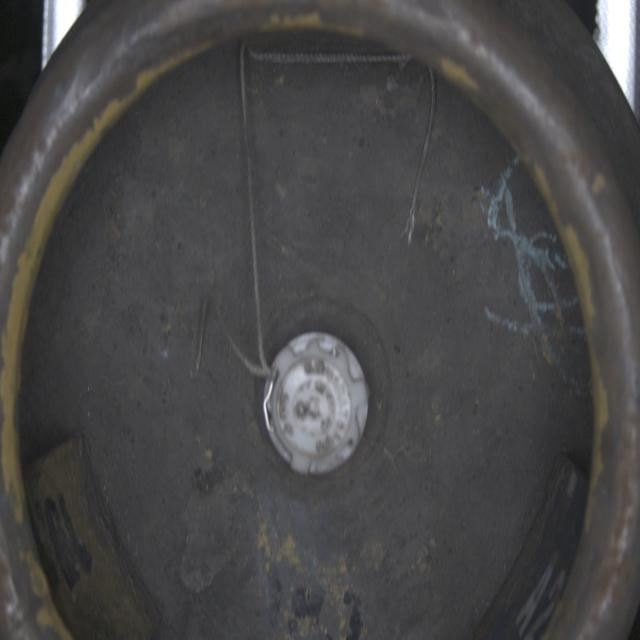Cap: (261, 329, 371, 479)
